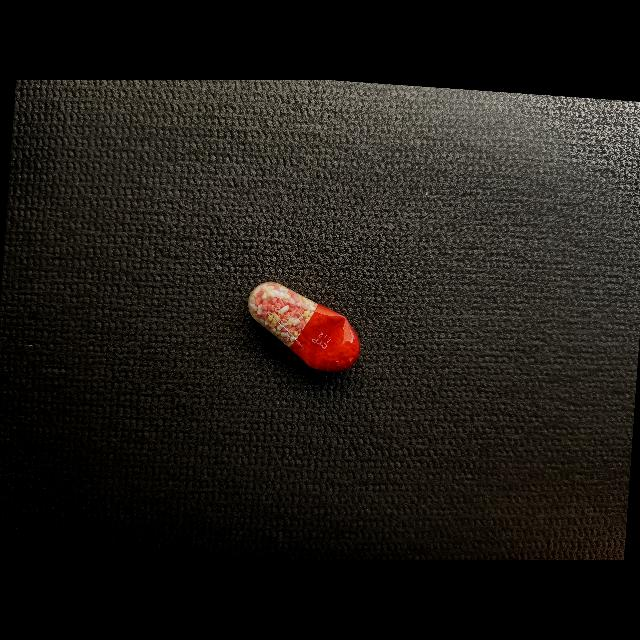Defective Capsule: (248, 282, 360, 372)
